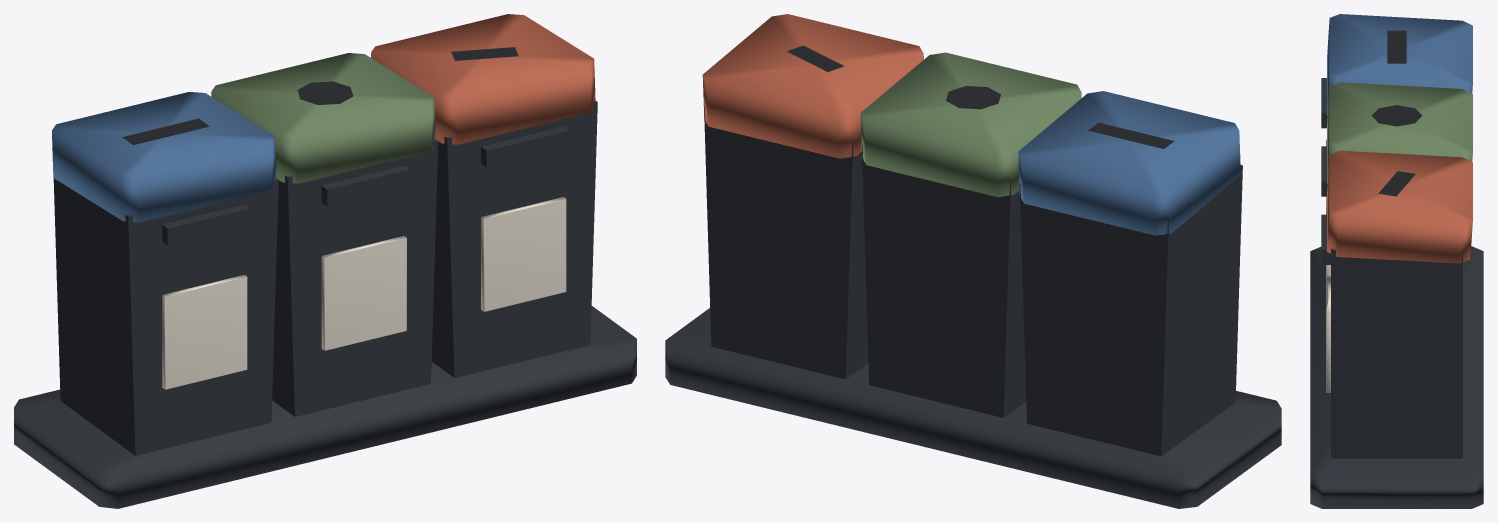
The model's file is recycling-trio.glb.
3 renders of one model, left to right at view 1: azimuth 30°, elevation 25°; view 2: azimuth 150°, elevation 25°; view 3: azimuth 270°, elevation 25°, orthographic. The views are drawn at different scales.
Visible parts, largest first — view 1: Merged_city-metal-dark, Merged_city-metal-dark-surface, Merged_recycling-paper, Merged_recycling-waste, Merged_recycling-glass-surface, Merged_city-poster, Merged_city-poster-surface, Merged_city-rubber, Merged_city-rubber-surface; view 2: Merged_city-metal-dark, Merged_city-metal-dark-surface, Merged_recycling-paper, Merged_recycling-waste, Merged_recycling-glass-surface, Merged_city-rubber, Merged_city-rubber-surface; view 3: Merged_city-metal-dark, Merged_recycling-waste, Merged_recycling-paper, Merged_recycling-glass-surface, Merged_city-rubber, Merged_city-rubber-surface, Merged_city-poster, Merged_city-metal-dark-surface.
Part boxes in pixels (x1,y1,x2,y2): Merged_city-metal-dark: (14, 100, 636, 508); Merged_city-metal-dark-surface: (272, 139, 438, 416); Merged_recycling-paper: (52, 92, 276, 222); Merged_recycling-waste: (371, 14, 595, 144); Merged_recycling-glass-surface: (211, 53, 435, 183); Merged_city-poster: (162, 197, 566, 389); Merged_city-poster-surface: (321, 236, 406, 350); Merged_city-rubber: (122, 47, 518, 145); Merged_city-rubber-surface: (297, 81, 353, 104); Merged_city-metal-dark: (665, 106, 1281, 508); Merged_city-metal-dark-surface: (862, 145, 1026, 417); Merged_recycling-paper: (1018, 91, 1240, 235); Merged_recycling-waste: (702, 14, 923, 158); Merged_recycling-glass-surface: (860, 52, 1081, 197); Merged_city-rubber: (787, 45, 1174, 148); Merged_city-rubber-surface: (946, 86, 1000, 109); Merged_city-metal-dark: (1310, 78, 1483, 508); Merged_recycling-waste: (1327, 150, 1472, 263); Merged_recycling-paper: (1327, 14, 1472, 115); Merged_recycling-glass-surface: (1327, 82, 1472, 183); Merged_city-rubber: (1378, 30, 1415, 196); Merged_city-rubber-surface: (1372, 105, 1421, 126); Merged_city-poster: (1326, 139, 1330, 392); Merged_city-metal-dark-surface: (1321, 146, 1327, 196).
Size of what is drawn, in the model's own units: 1.82 by 1.03 by 0.58.
